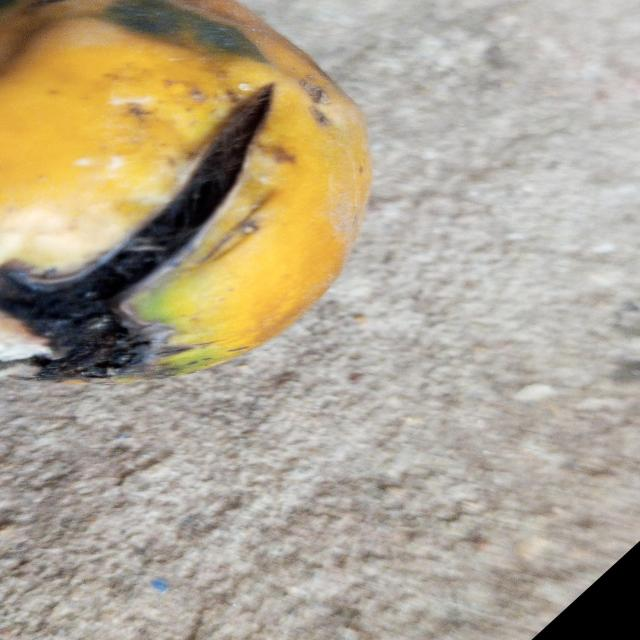damaged: (0, 0, 373, 381)
